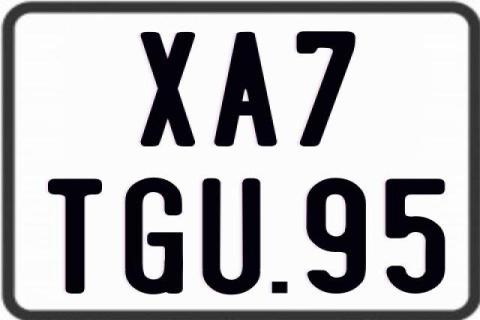0: (382, 178, 448, 298), (304, 177, 368, 293), (296, 32, 355, 150)
A: (213, 31, 277, 149)
G: (125, 176, 184, 294)
T: (47, 178, 102, 298)
U: (201, 178, 264, 296)
X: (139, 30, 194, 150)
